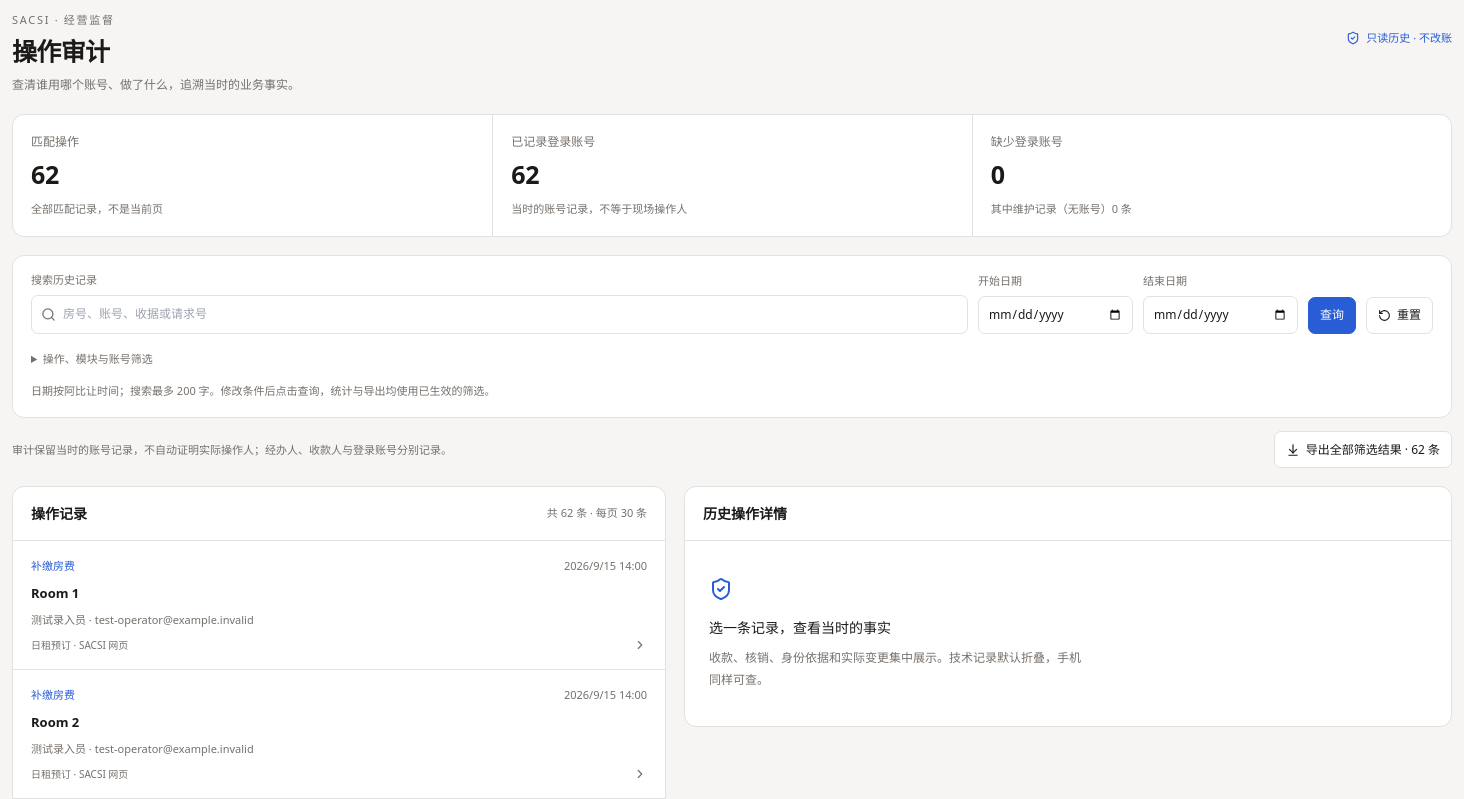
Test: paged audit workbench › treats a 403 response as revocation, not an empty result
The image size is (1464, 799).
Click the 4th button.
click(53, 566)  # box [13,541,665,669]
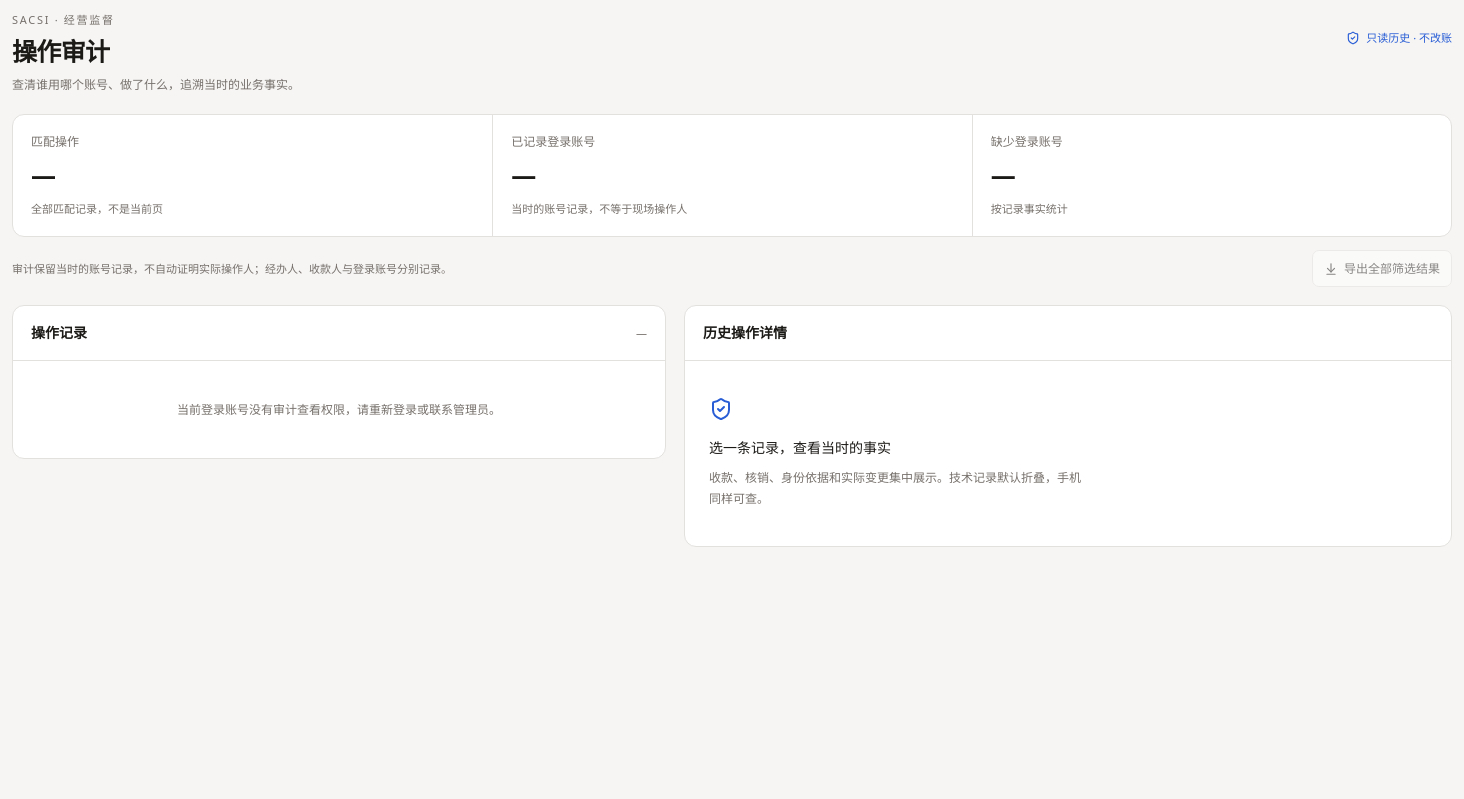
Now the form is gone
Now the text "没有审计查看权限" is shown, box [177,401,501,418]
